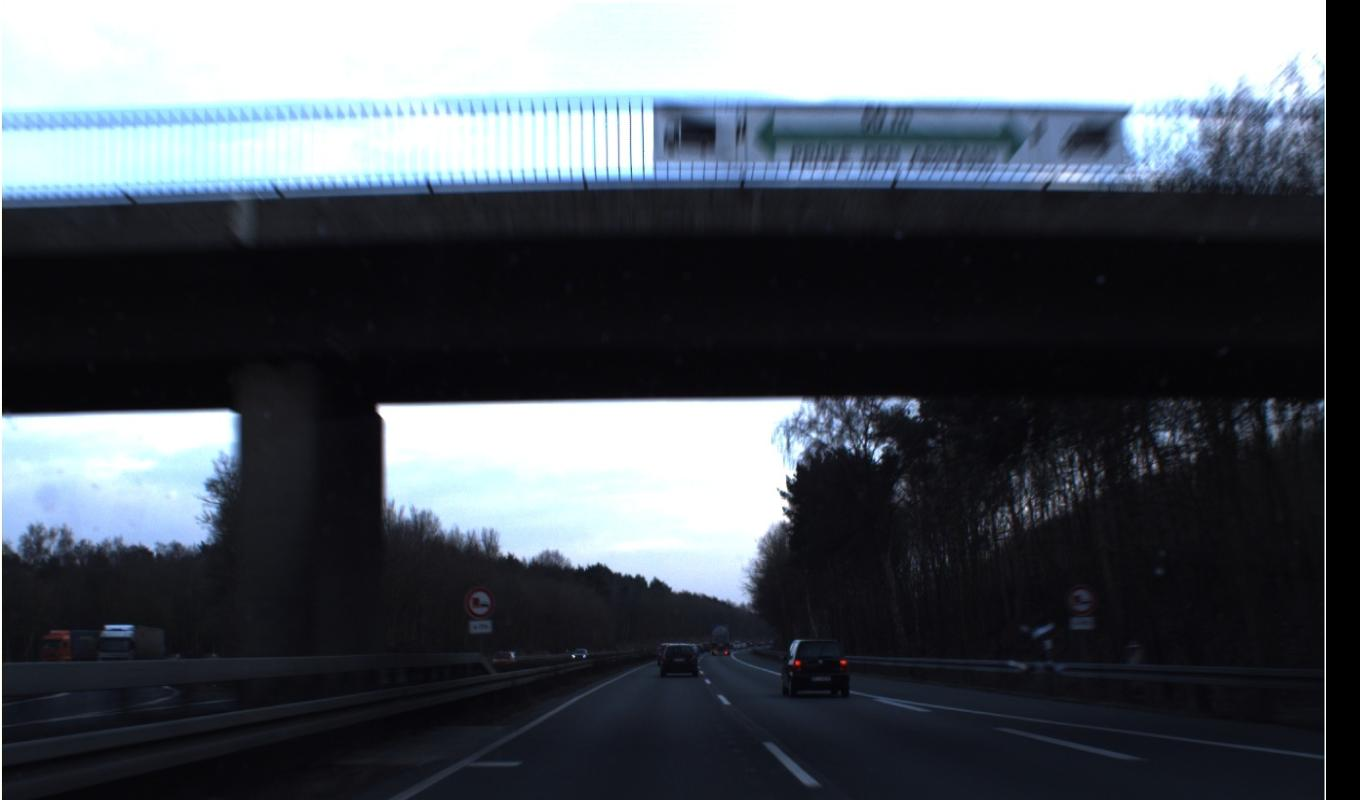no overtaking (trucks): (463, 584, 1097, 620)
